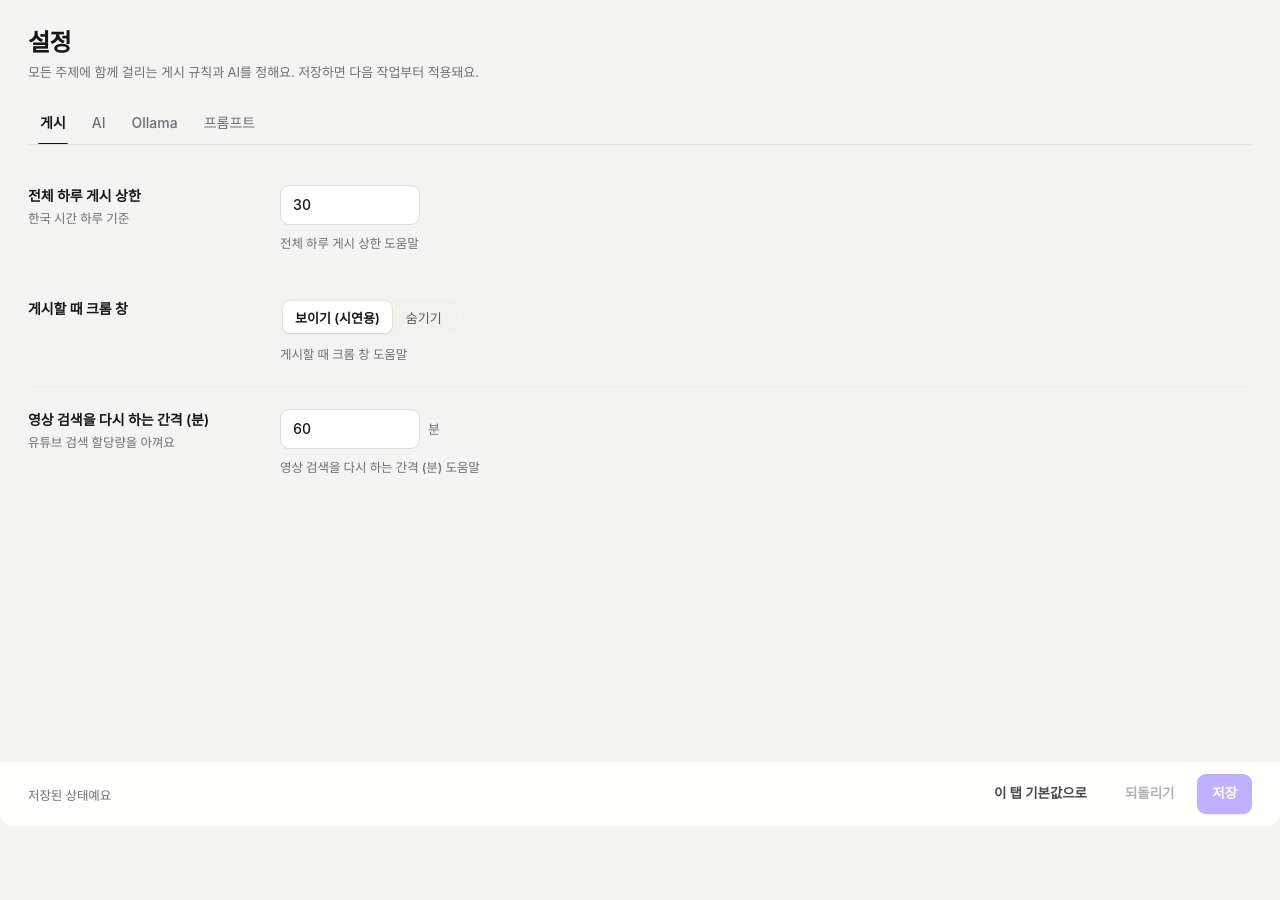
Test: 설정 (탭 · 아래 저장 막대) › 숫자 칸이 비면 보내지 않고 알린다
Clear the field labelled "전체 하루 게시 상한". click: (350, 205)
box: [280,185,420,225]
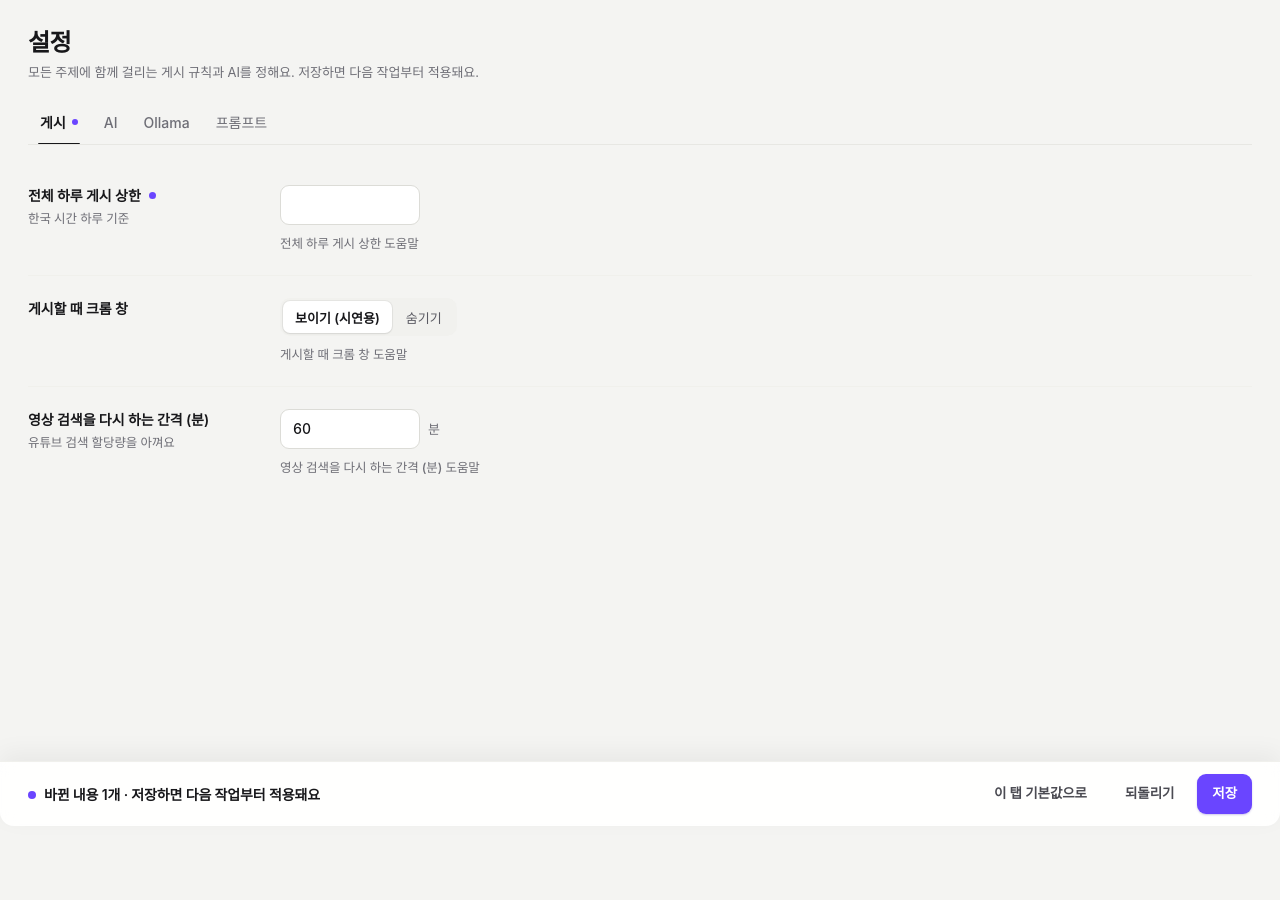
Click the button "저장". click: (1225, 794)
box: [1197,774,1252,814]
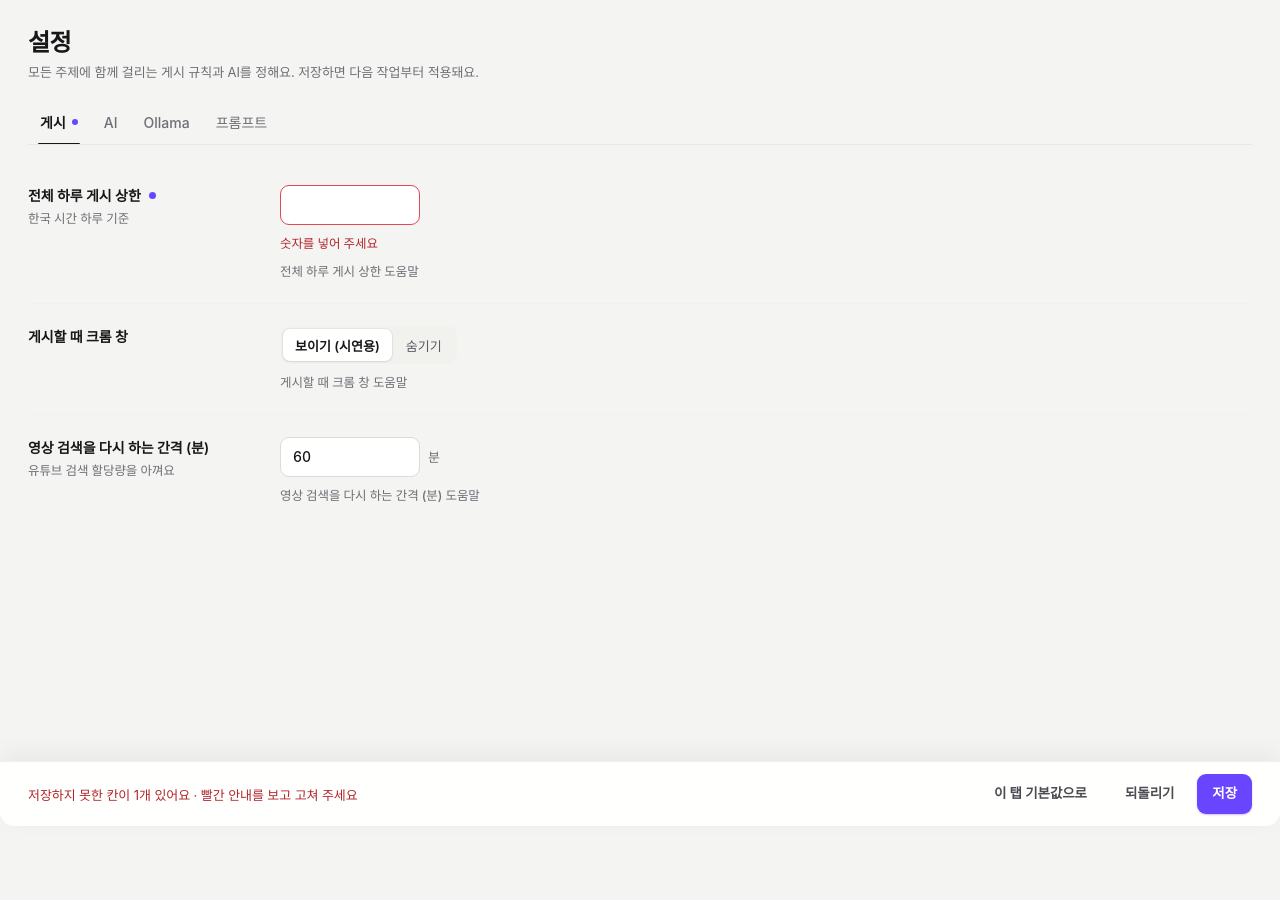
expect the text "숫자를 넣어 주세요" is shown: met, box [280,236,378,251]
